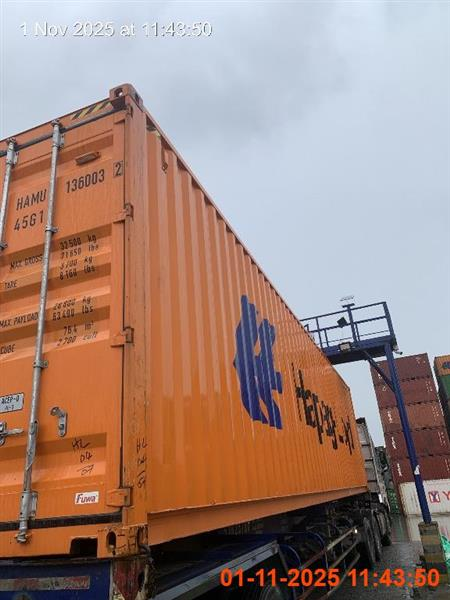broken: (1, 84, 388, 592)
